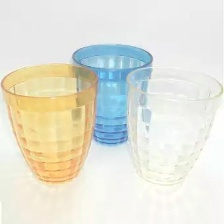glass: (0, 60, 102, 188), (122, 64, 224, 187), (68, 38, 155, 150)
